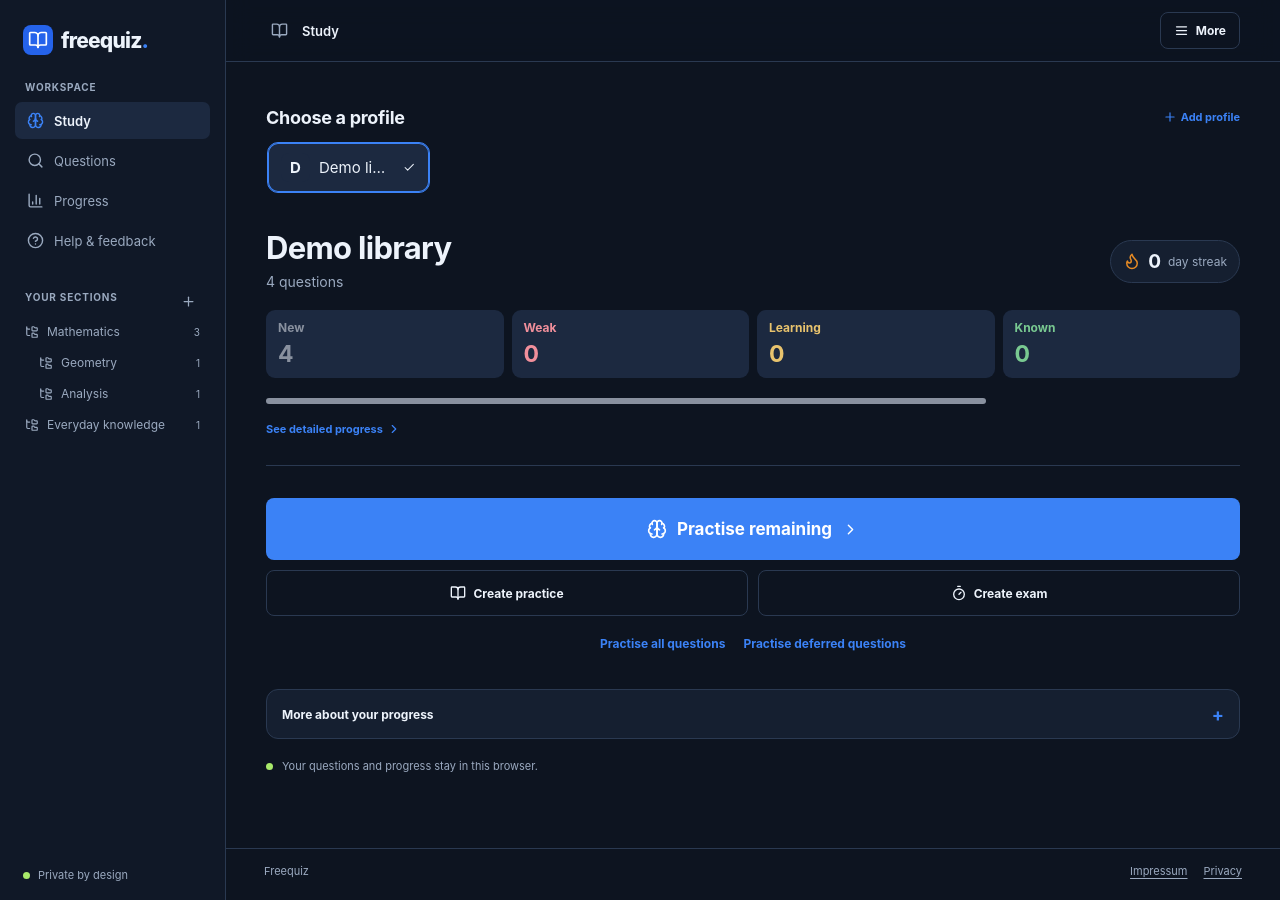
Test case: Freequiz › removes the oversized practice headline and keeps the question counter
Click the button "Create practice" at (507, 593), box [266,570,748,616]
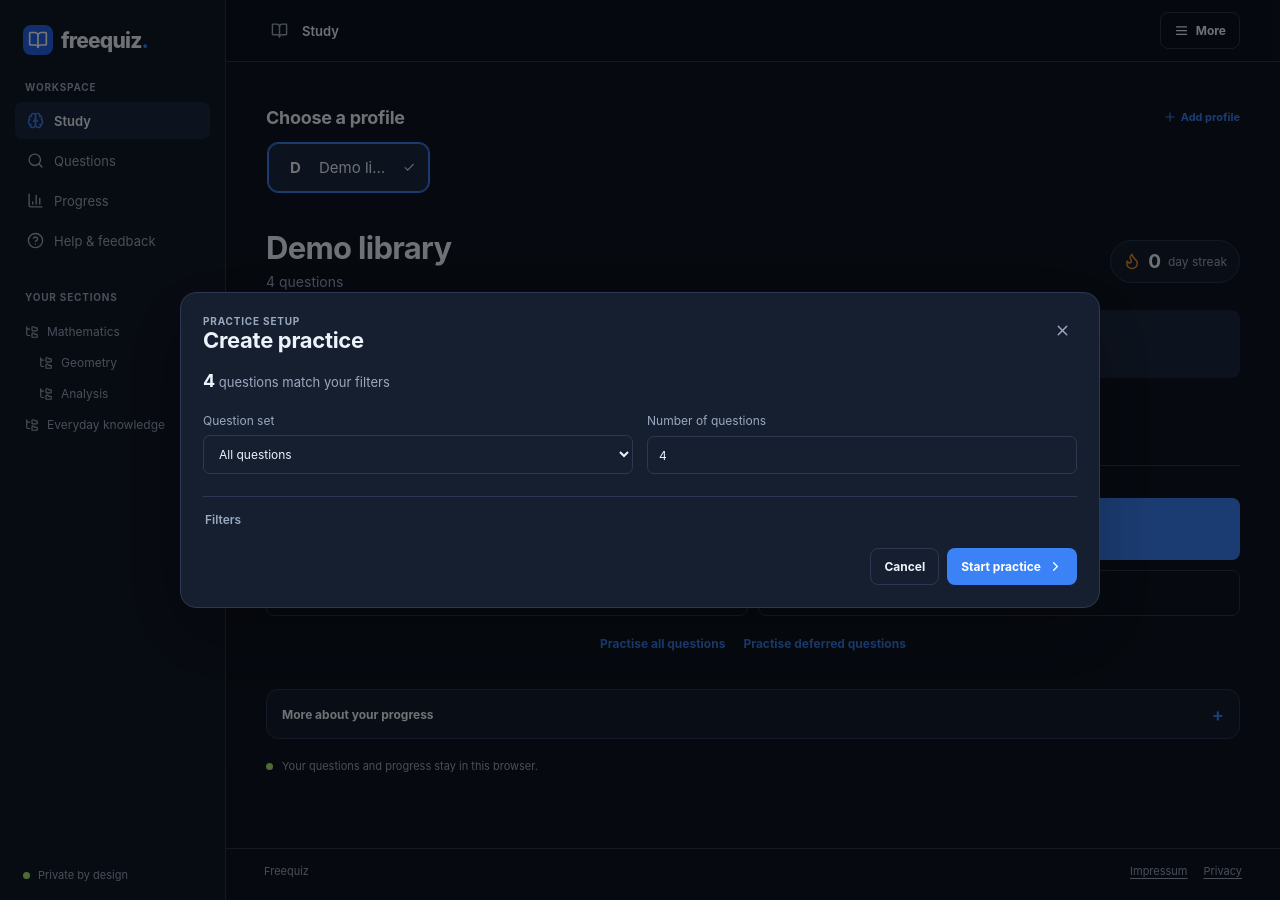
Replace the text in the number field labelled "Number of questions" with "2" at (862, 455), box [647,436,1077,474]
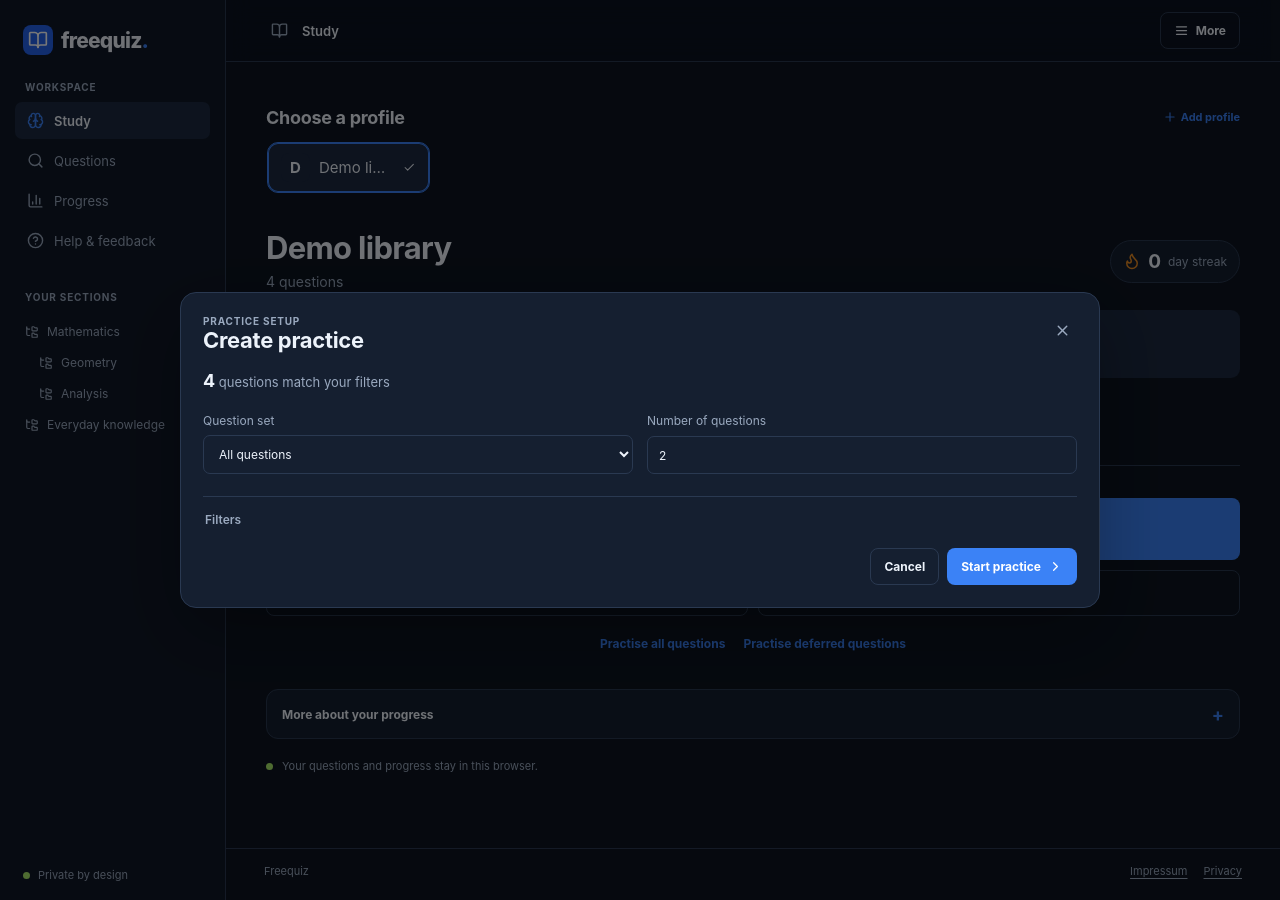
Click the button "Start practice" at (1012, 566), box [947,548,1077,585]
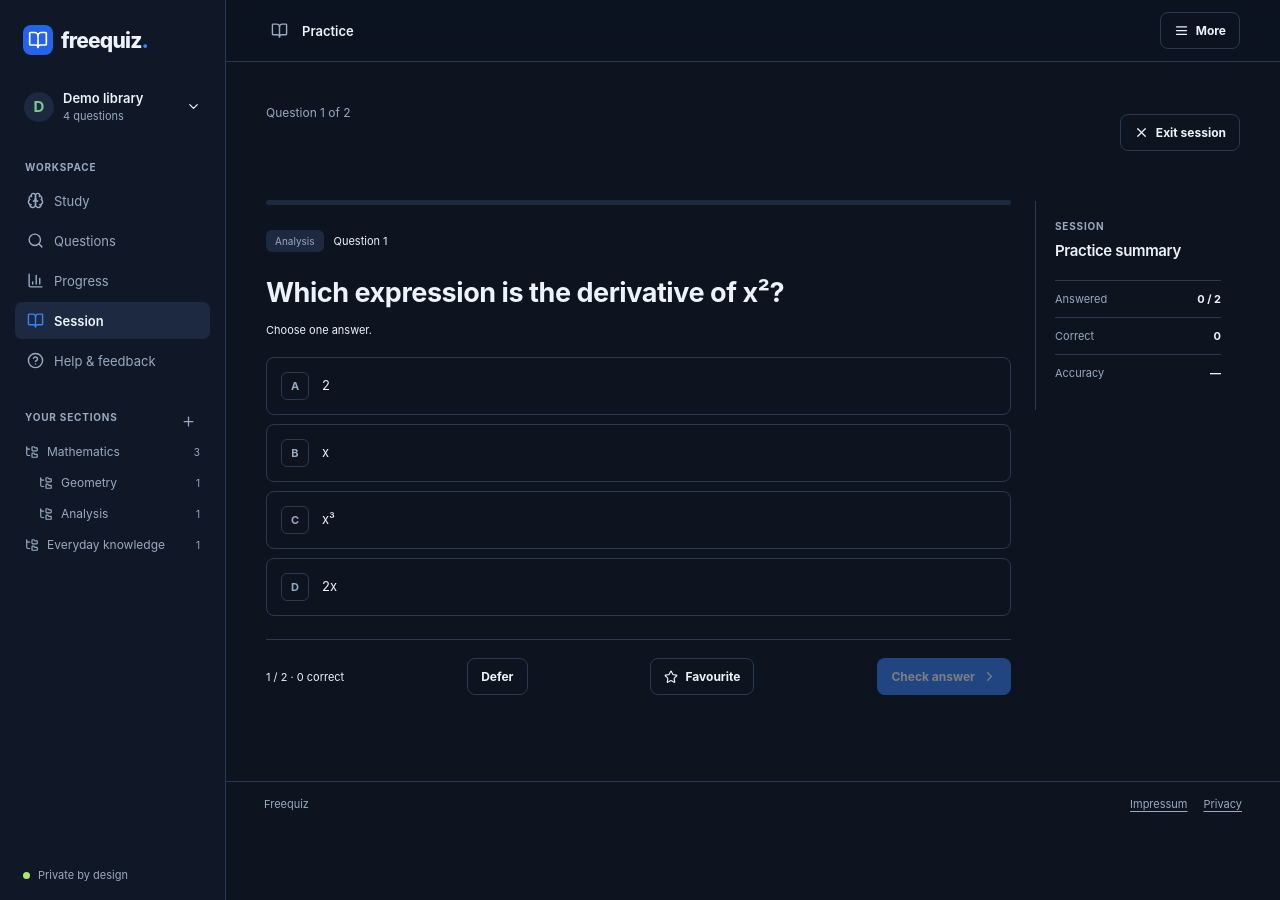
Check: the text "Question 1 of 2" is shown, box [266,104,351,121]
